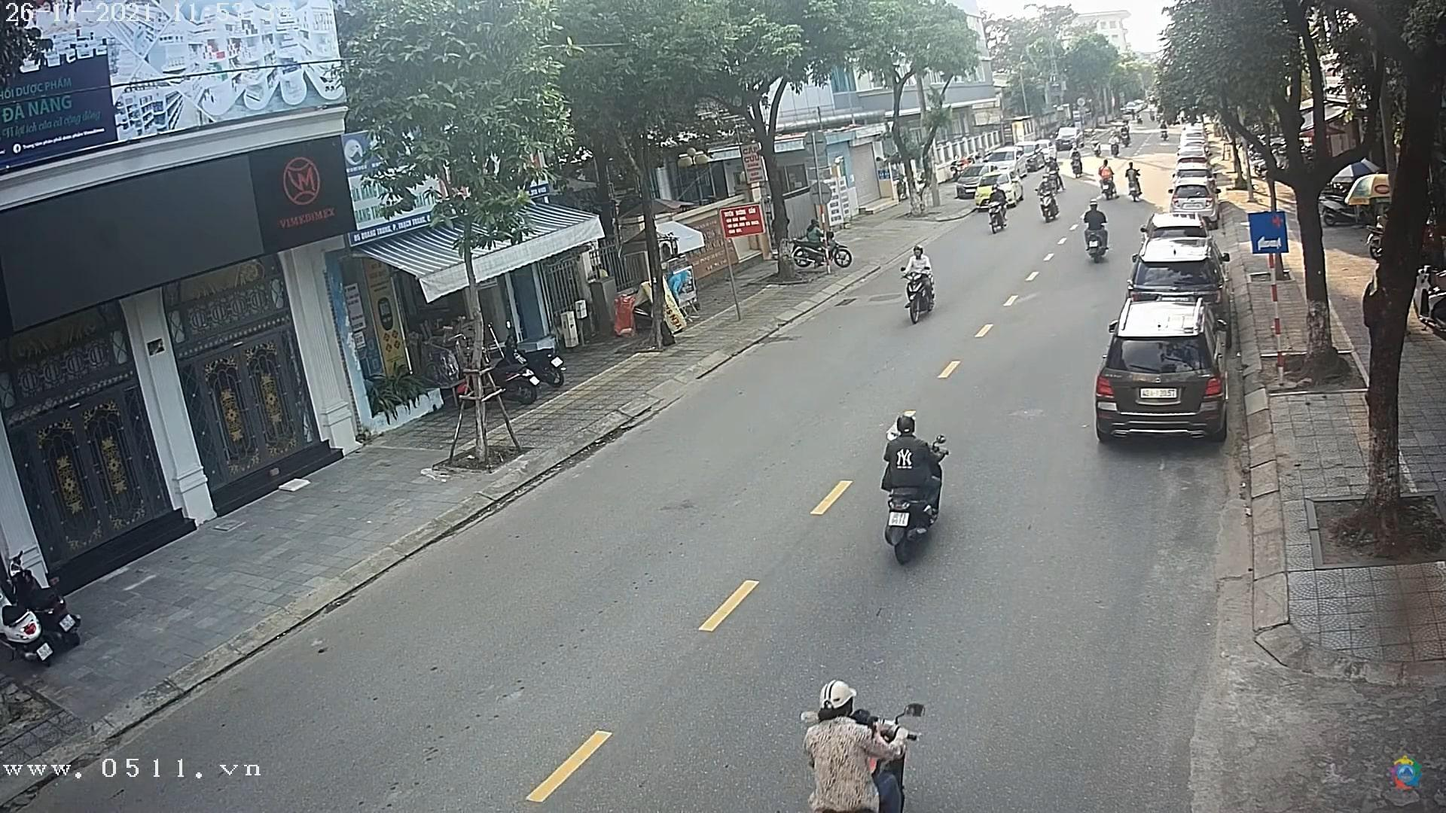car: (1097, 305, 1225, 443), (1128, 239, 1227, 302)
motorbike: (879, 431, 944, 557), (901, 264, 935, 323), (1081, 221, 1114, 261), (1036, 181, 1060, 228), (985, 194, 1011, 234)
